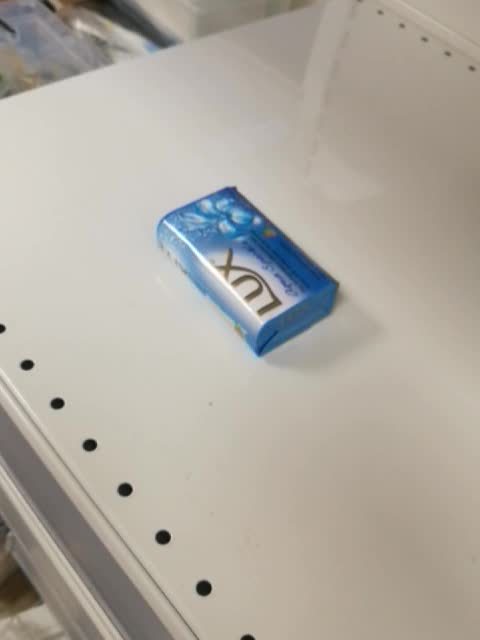soap: (154, 185, 341, 359)
